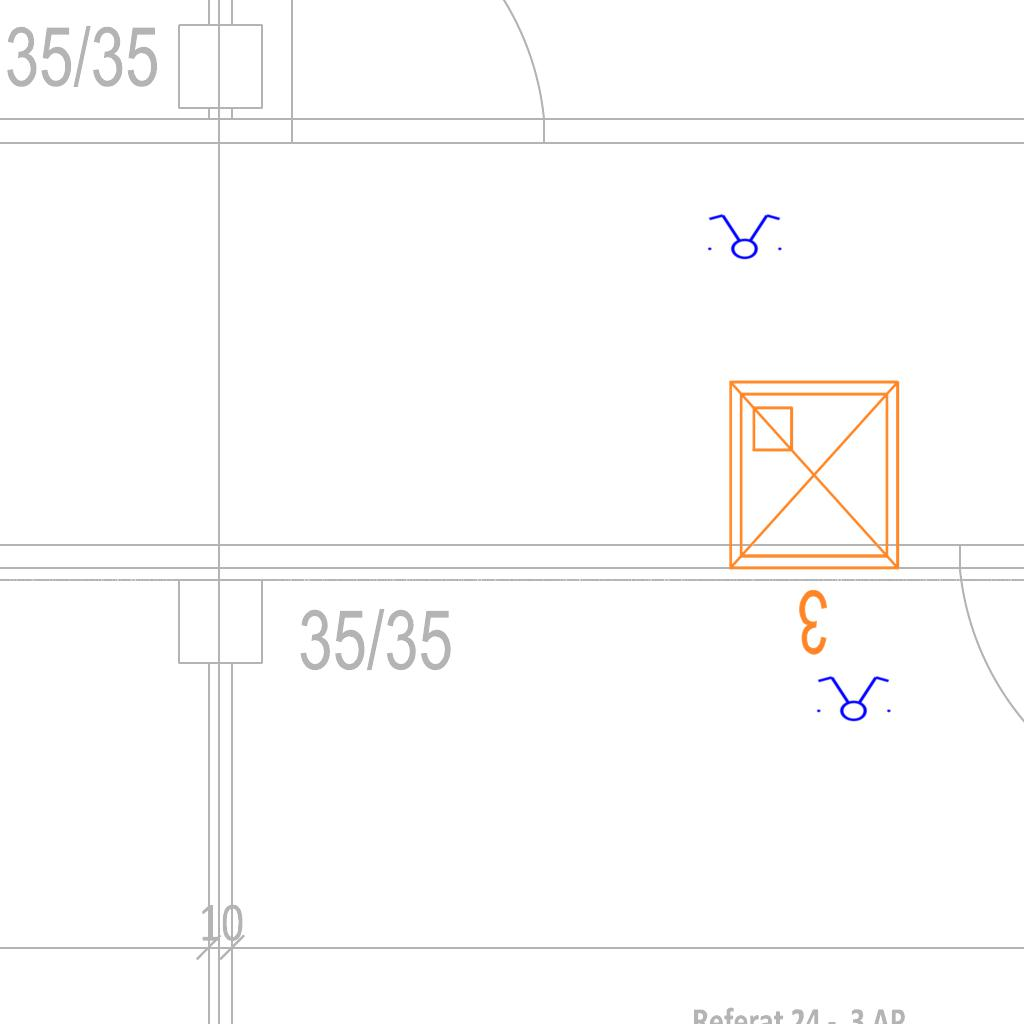Einbaudownlights_LED_Konferenzraeume: (714, 366, 922, 666)
Serienschalter: (702, 212, 786, 260), (811, 674, 895, 722)
